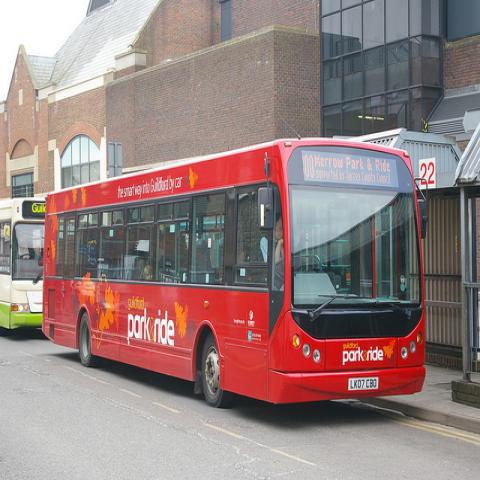bus: (43, 136, 424, 407), (0, 199, 45, 334)
